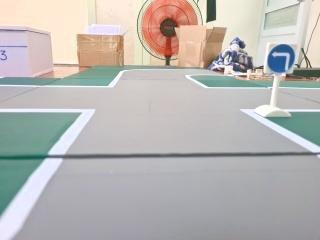left: (264, 43, 297, 76)
